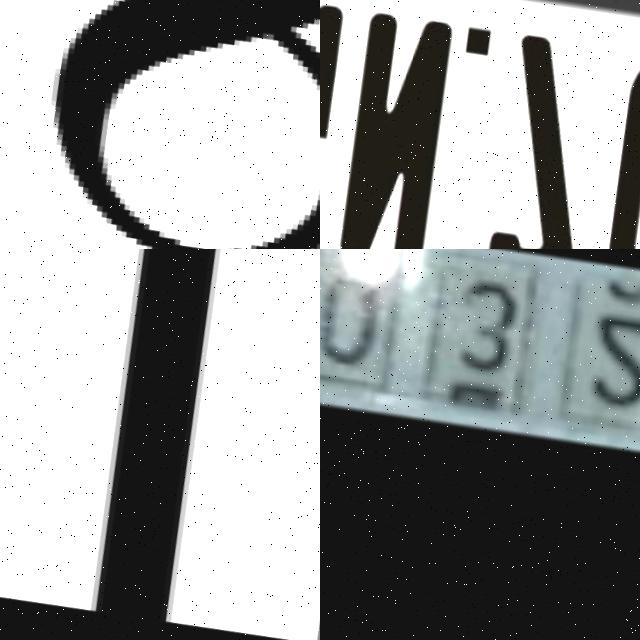0: (320, 254, 388, 376)
2: (564, 309, 640, 424)
3: (434, 279, 519, 384)
7: (465, 33, 608, 249)
8: (0, 0, 320, 249)
C: (580, 50, 640, 249)
G: (320, 0, 359, 249)
N: (320, 12, 467, 249)
T: (0, 249, 320, 640)
